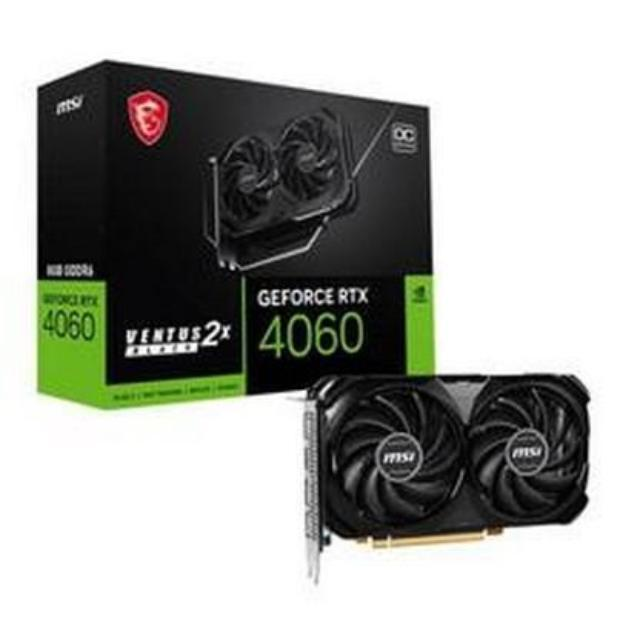GPU: (297, 370, 595, 556)
